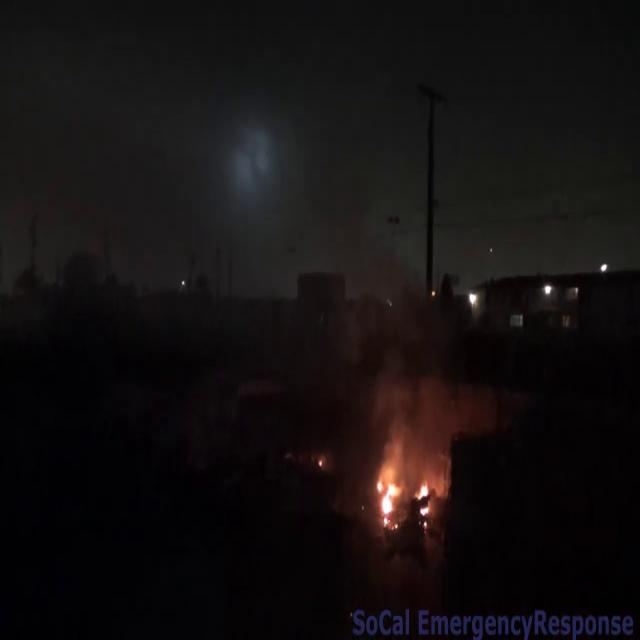Fire: (373, 450, 433, 524)
Smoke: (370, 349, 478, 456)
